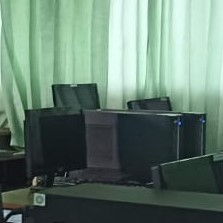monitor: (24, 107, 87, 187), (51, 83, 101, 110)
